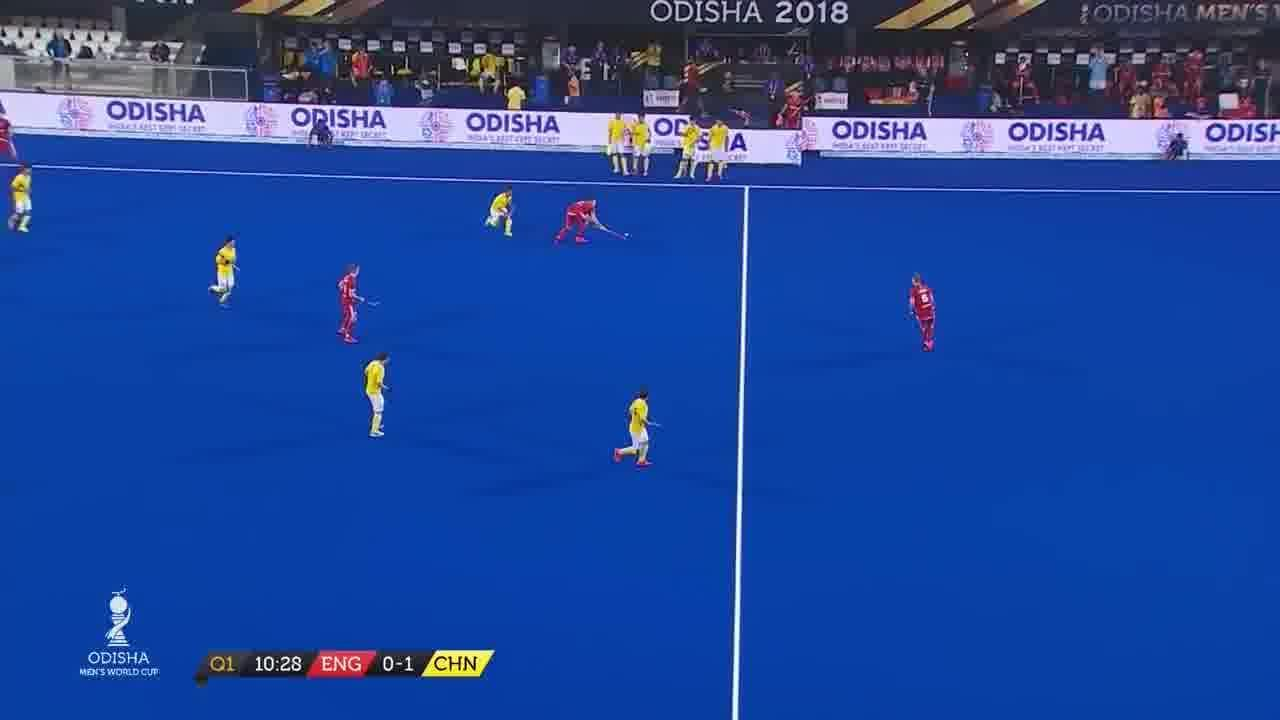ball: (622, 229, 632, 244)
